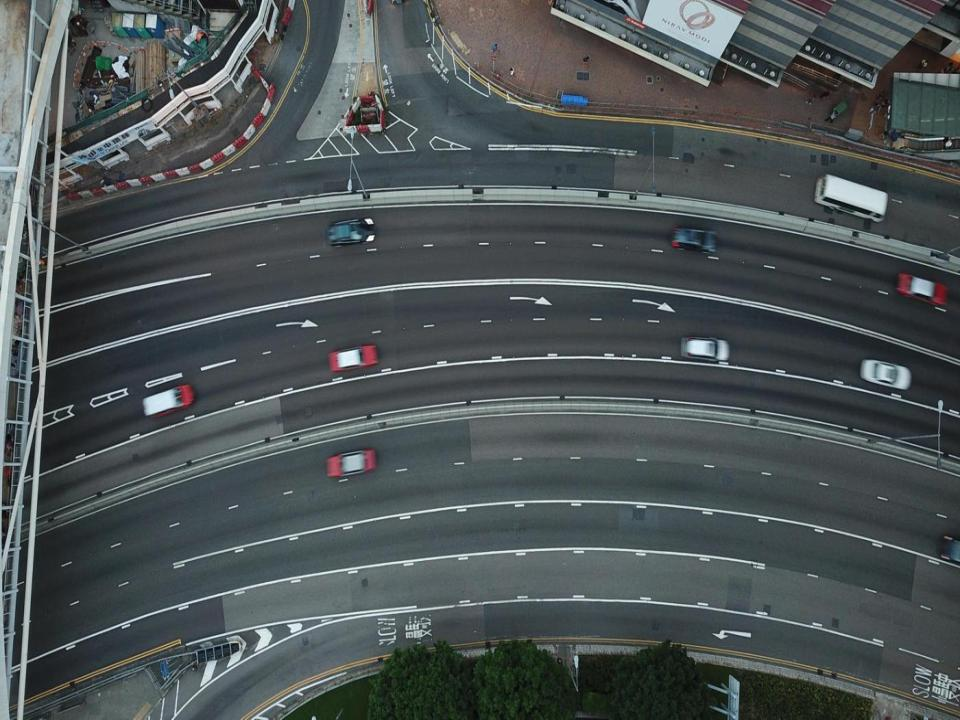bus: (815, 172, 887, 224)
car: (896, 268, 948, 307), (860, 356, 911, 392), (142, 384, 196, 416), (329, 344, 379, 374), (326, 218, 378, 246), (326, 450, 376, 478), (938, 534, 960, 568)
van: (670, 222, 718, 253), (678, 334, 730, 362)
